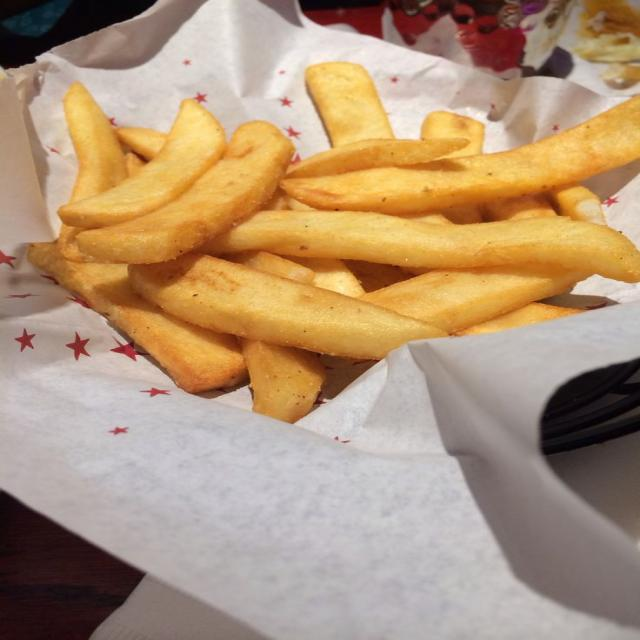potato fries: (30, 63, 639, 422), (282, 97, 639, 215), (129, 254, 445, 359), (29, 243, 246, 392), (77, 122, 293, 263), (202, 212, 639, 281), (59, 100, 225, 228), (361, 265, 585, 333), (64, 83, 128, 202), (306, 62, 394, 146), (287, 138, 466, 177), (457, 303, 582, 335), (420, 111, 484, 157), (550, 185, 606, 224), (115, 128, 166, 160)
